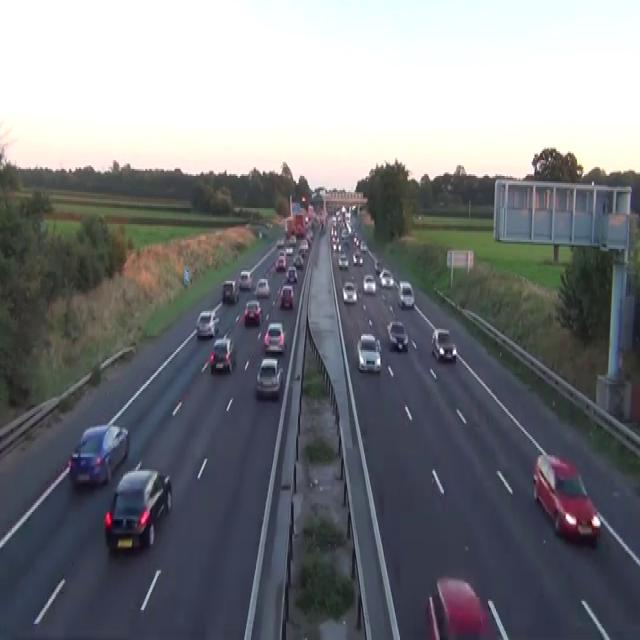Car: (532, 453, 601, 544), (104, 461, 172, 551), (425, 576, 489, 638), (68, 423, 129, 487), (255, 358, 283, 398), (356, 332, 381, 372), (431, 327, 456, 363), (210, 336, 233, 373), (196, 309, 219, 338), (386, 320, 408, 350), (263, 322, 285, 352), (244, 299, 262, 325), (397, 281, 414, 307), (222, 279, 239, 304), (279, 284, 294, 308), (342, 281, 357, 304), (255, 277, 270, 297), (379, 268, 393, 288), (239, 270, 252, 290), (363, 274, 376, 293), (285, 265, 297, 283), (298, 238, 308, 256), (275, 254, 286, 270), (352, 251, 363, 265), (338, 254, 348, 268), (293, 254, 303, 268), (183, 267, 190, 286), (374, 260, 381, 274), (330, 228, 338, 240), (285, 245, 293, 256), (341, 228, 348, 240), (276, 237, 284, 247), (265, 220, 273, 230), (360, 240, 367, 251), (278, 249, 286, 258), (289, 233, 296, 243), (351, 205, 357, 215), (304, 215, 308, 226), (258, 230, 262, 238)
